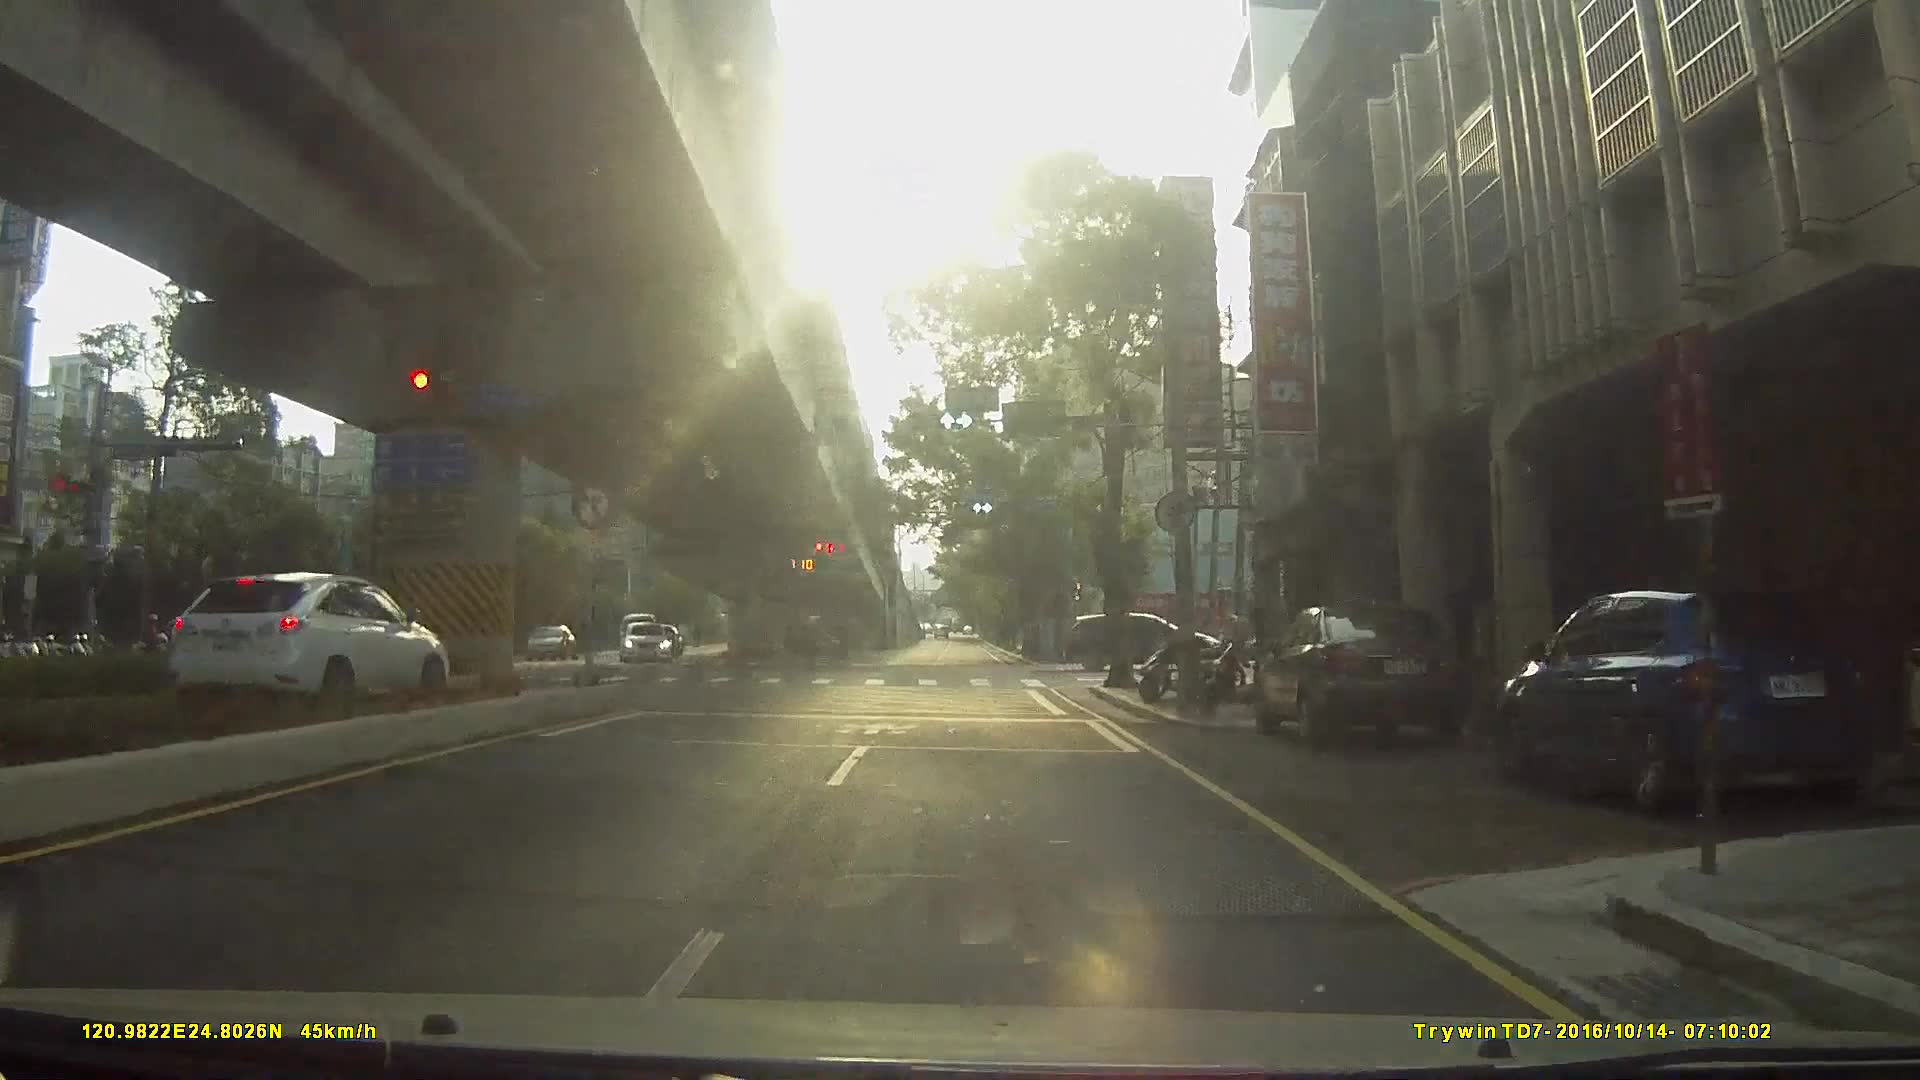vehicle: (1494, 583, 1887, 825), (160, 568, 452, 716), (1259, 601, 1482, 753), (1062, 609, 1232, 673), (618, 620, 669, 663), (520, 622, 572, 663)
